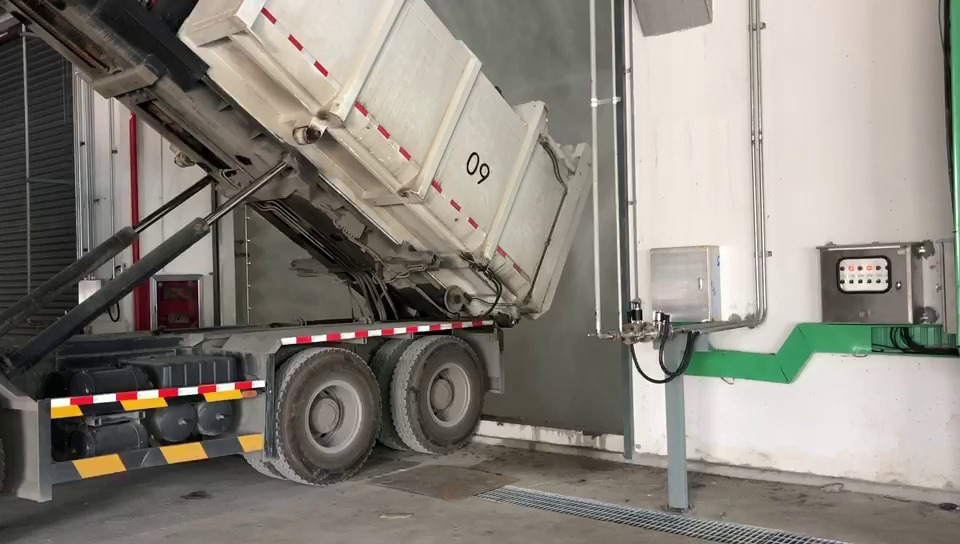truck: (0, 0, 602, 512)
